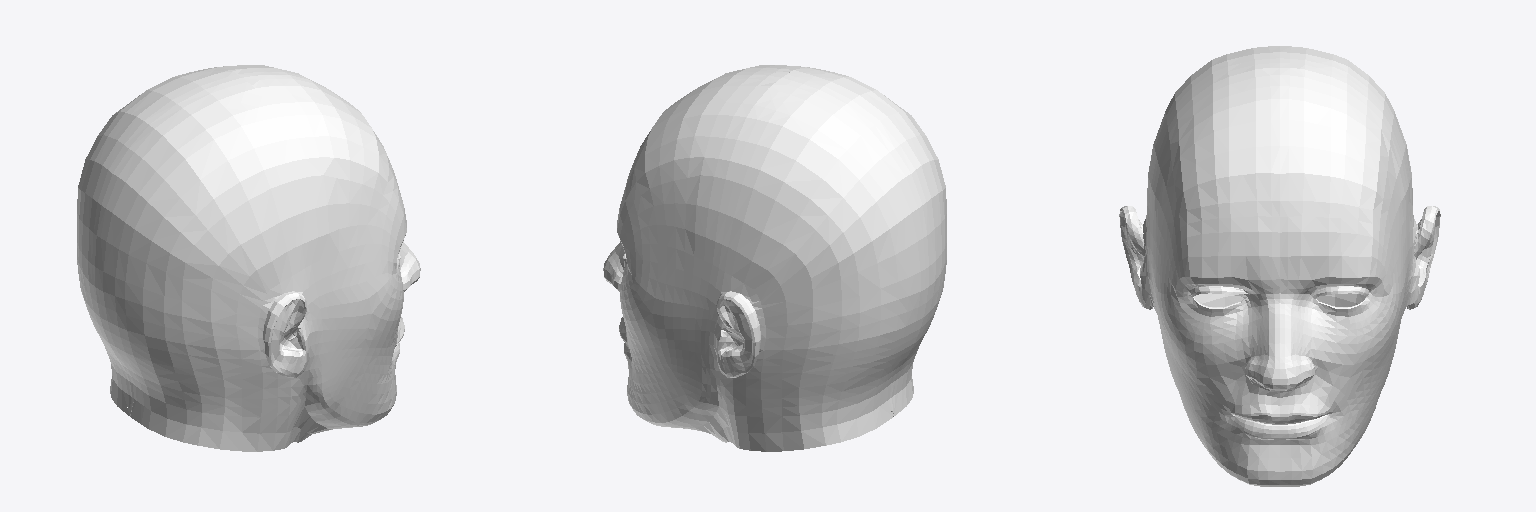
File: head.obj
The picture shows the model from 3 angles: view 1: azimuth 30°, elevation 25°; view 2: azimuth 150°, elevation 25°; view 3: azimuth 270°, elevation 25°; orthographic projection.
Parts seen in each view (by area): view 1: object0; view 2: object0; view 3: object0.
Boxes of the visible parts, <box> form: object0: <box>77,65,420,451</box>; object0: <box>603,65,946,451</box>; object0: <box>1119,46,1440,486</box>.
Bounding box in the file's own units: 119 × 128 × 102.